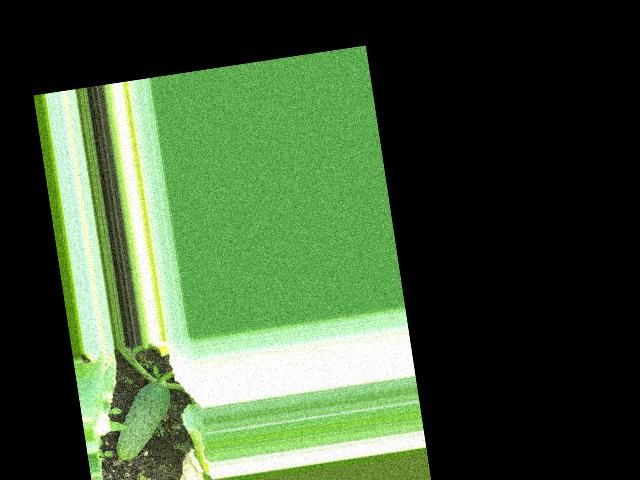cucumber: (107, 379, 178, 461)
